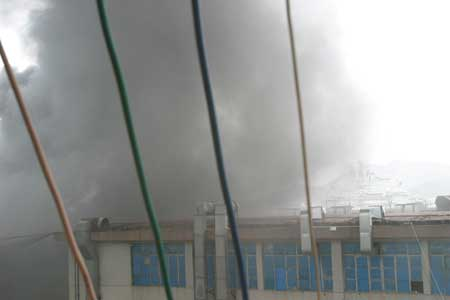smoke: (22, 7, 325, 206)
